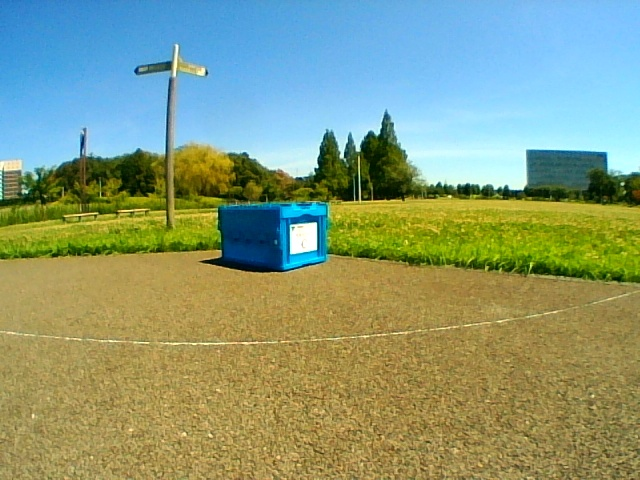blue_box: (218, 203, 327, 270)
tag: (291, 224, 315, 251)
